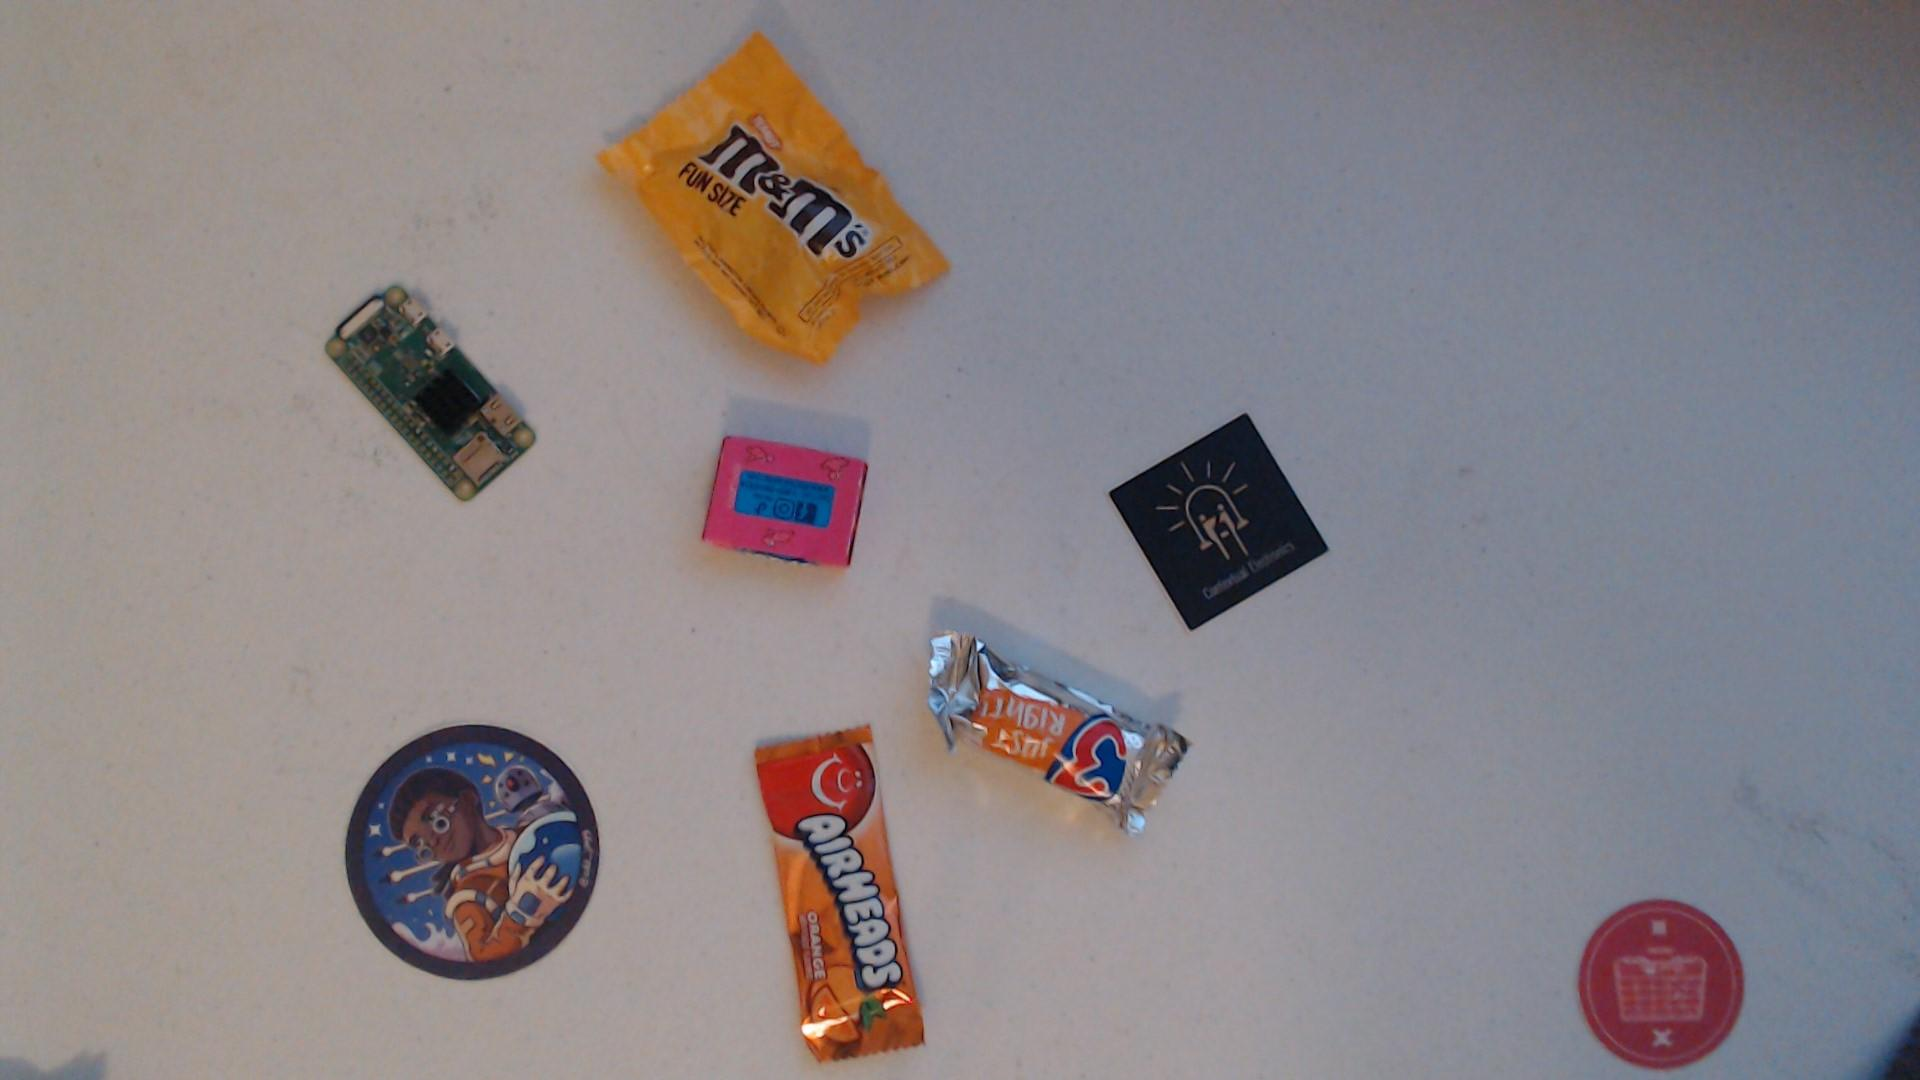MM_yellow: (597, 30, 948, 364)
airheads: (752, 723, 928, 1064)
nerds: (703, 438, 866, 570)
three: (924, 629, 1182, 831)
